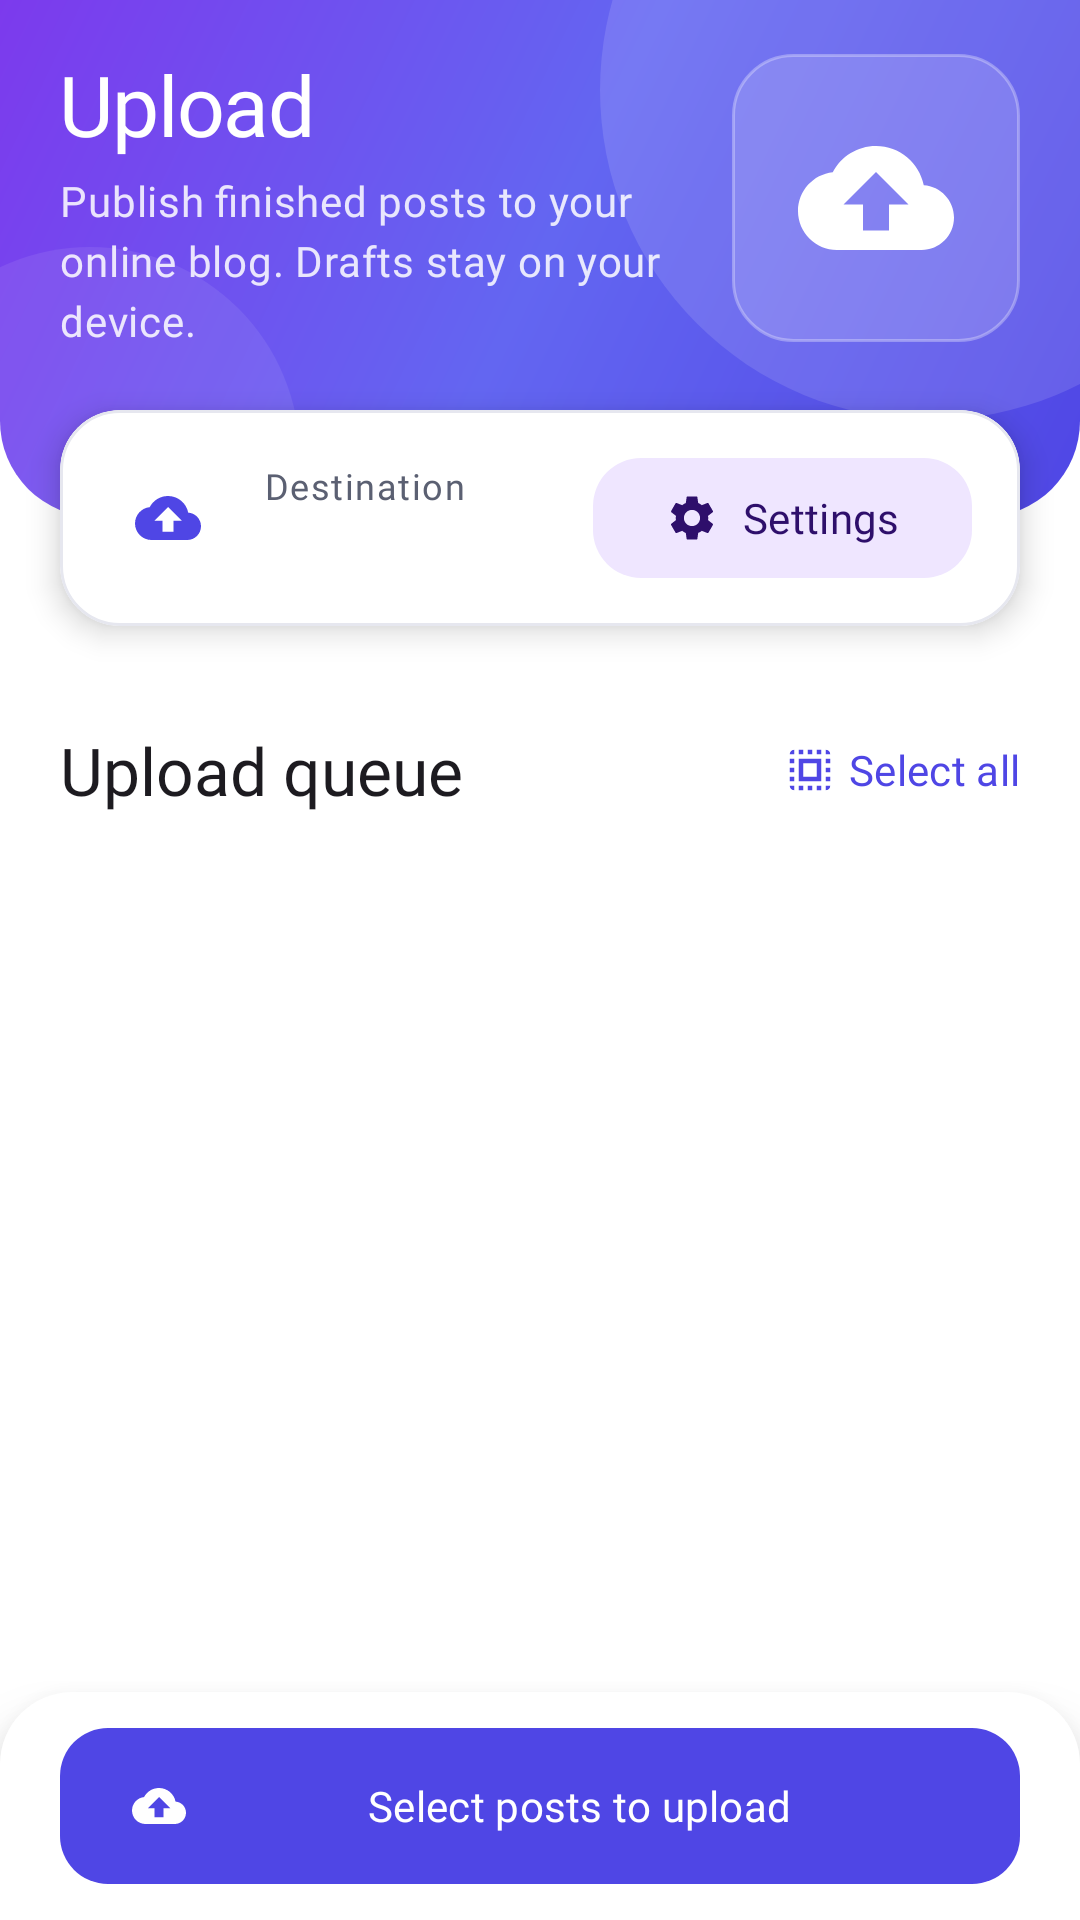

Point at icon controls on the screen. Image size 1080*1920, points as (x=x, y=y).
cloud upload: (x=876, y=198), (x=168, y=518)
